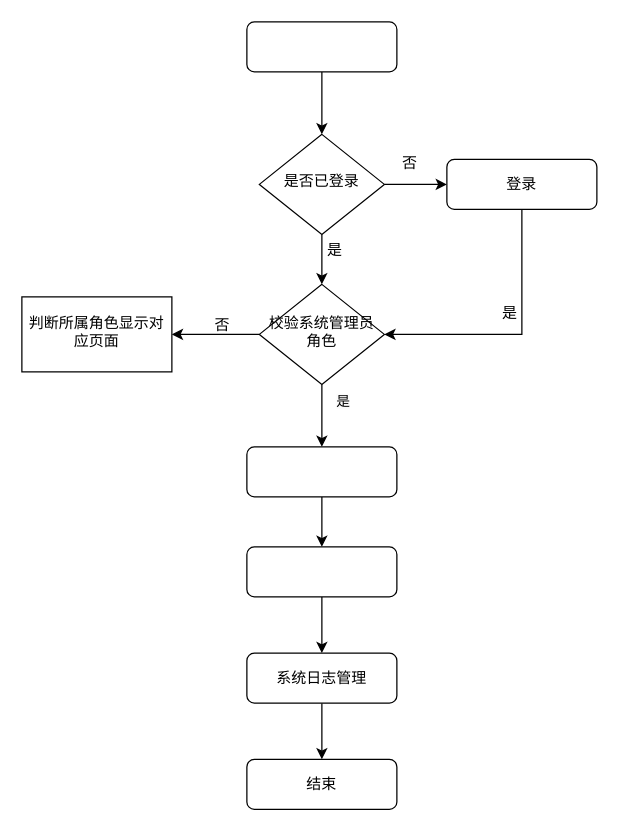
Image size: 619x831. Some labels were removed from this diagram. The shapes that lost their labels are listed below. From the top down, each one's centre as x and y in pixels, then its label:
[321,46]: 开始
[321,471]: 系统维护
[321,571]: 系统数据备份
